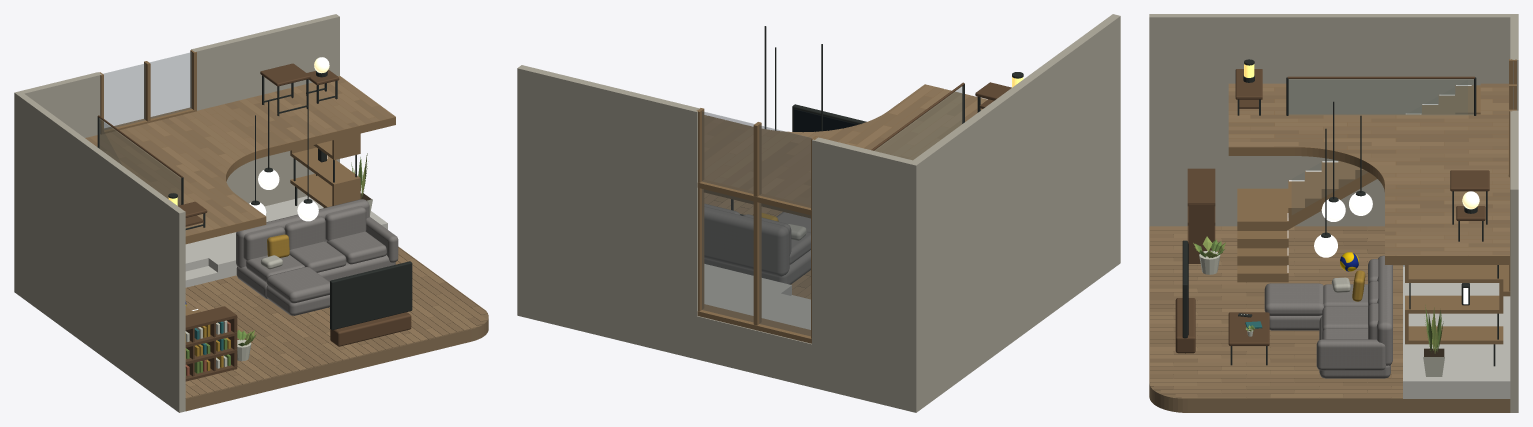
The model's file is jacky_loft_v1.glb.
3 views of the same model, side by side, from view 1: azimuth 30°, elevation 25°; view 2: azimuth 150°, elevation 25°; view 3: azimuth 270°, elevation 25° (orthographic). The views are drawn at different scales.
Parts seen in each view (by area): view 1: Architecture, Floorboards, Sofa, TV, Staggered_shelf, Bookshelf, Rear_platform, Upper_guard_glass, Window_Glass_Left, Window_Glass_Right, Upstairs_furniture, TV_console (+2 smaller); view 2: Architecture, Floorboards, Window_Glass_Left, Window_Glass_Right, Sofa, Rear_platform, Upper_guard_glass, TV_screen; view 3: Architecture, Floorboards, Sofa, Staircase, Rear_platform, Upper_guard_glass, Staggered_shelf, Upstairs_furniture, Bookshelf, Sloping_guard_glass, Plants, Coffee_table_top (+5 smaller).
Part boxes in pixels (box(x1,y1,x2,y2)): Architecture: box(14, 14, 488, 412); Floorboards: box(85, 76, 487, 398); Sofa: box(236, 199, 398, 315); TV: box(330, 261, 412, 330); Staggered_shelf: box(290, 133, 360, 207); Bookshelf: box(185, 306, 237, 381); Rear_platform: box(185, 196, 387, 287); Upper_guard_glass: box(99, 118, 180, 205); Window_Glass_Left: box(104, 63, 145, 129); Window_Glass_Right: box(149, 52, 191, 118); Upstairs_furniture: box(178, 63, 339, 229); TV_console: box(330, 312, 411, 346); Architecture: box(517, 14, 1120, 412); Floorboards: box(704, 84, 987, 299); Window_Glass_Left: box(759, 125, 811, 335); Window_Glass_Right: box(702, 111, 754, 321); Sofa: box(704, 204, 810, 284); Rear_platform: box(704, 264, 810, 329); Upper_guard_glass: box(874, 86, 963, 159); TV_screen: box(793, 109, 857, 132); Architecture: box(1149, 14, 1518, 412); Floorboards: box(1150, 83, 1509, 398); Sofa: box(1264, 255, 1392, 378); Staircase: box(1237, 76, 1480, 282); Rear_platform: box(1403, 265, 1510, 398); Upper_guard_glass: box(1289, 79, 1473, 114); Staggered_shelf: box(1405, 265, 1503, 366); Upstairs_furniture: box(1235, 69, 1489, 241); Bookshelf: box(1187, 168, 1215, 263); Sloping_guard_glass: box(1292, 159, 1367, 214); Plants: box(1193, 236, 1444, 376); Coffee_table_top: box(1228, 312, 1269, 345).
Bounding box in the file's own units: 8.12 × 4.81 × 7.21.
Materials: 18 (2 with a texture image).
